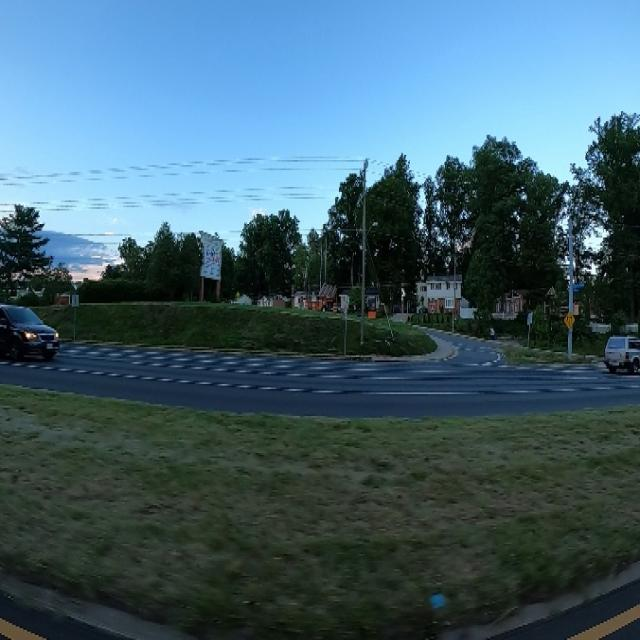cars: (0, 288, 65, 370), (602, 323, 640, 386)
